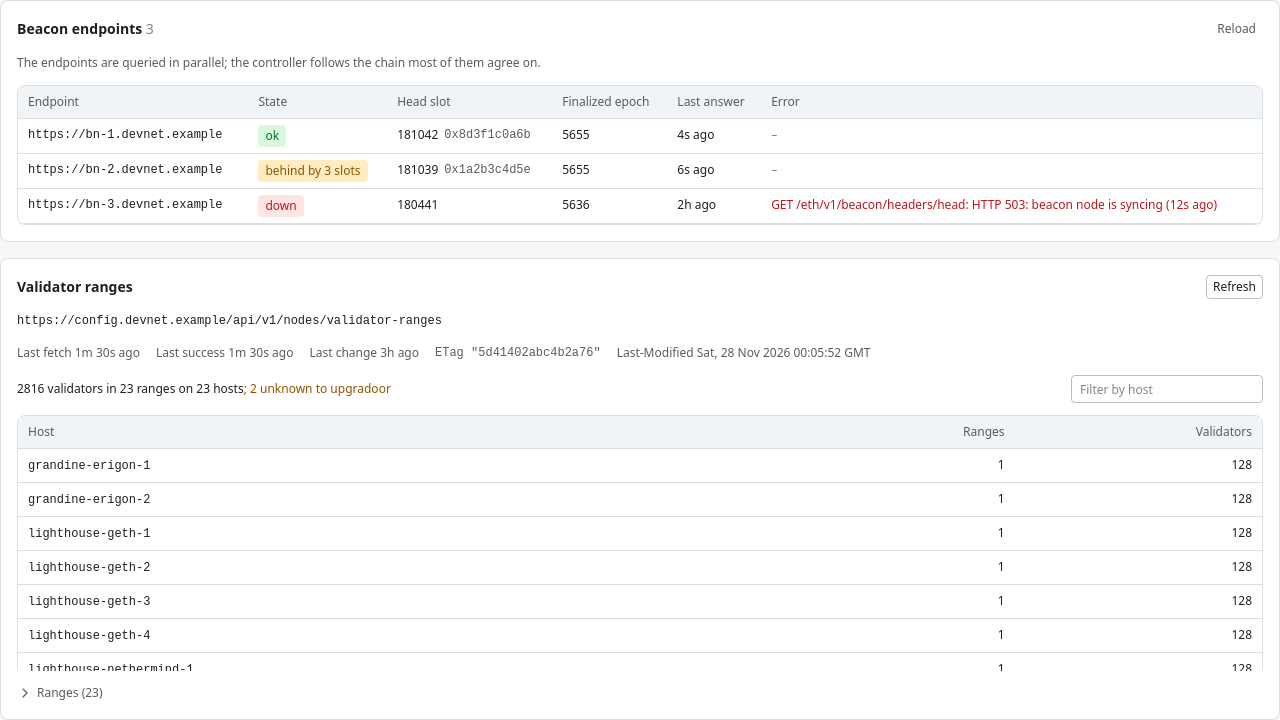
Scenario: DataSourcesTab › filters both tables by host
The image size is (1280, 720).
Type "spare" into the search field labelled "Filter by host". click: (1167, 389)
box: [1071,375,1263,403]
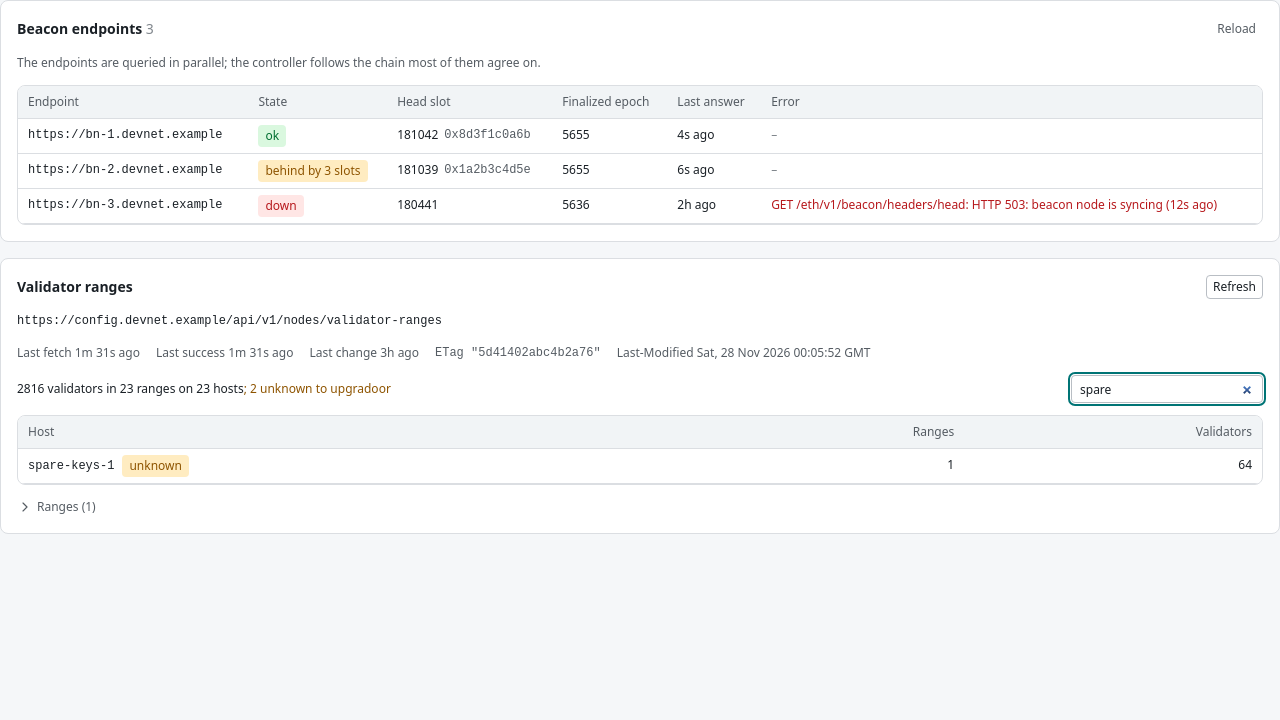
Result: the heading "Ranges (1)" is shown at [17,498,96,515]
